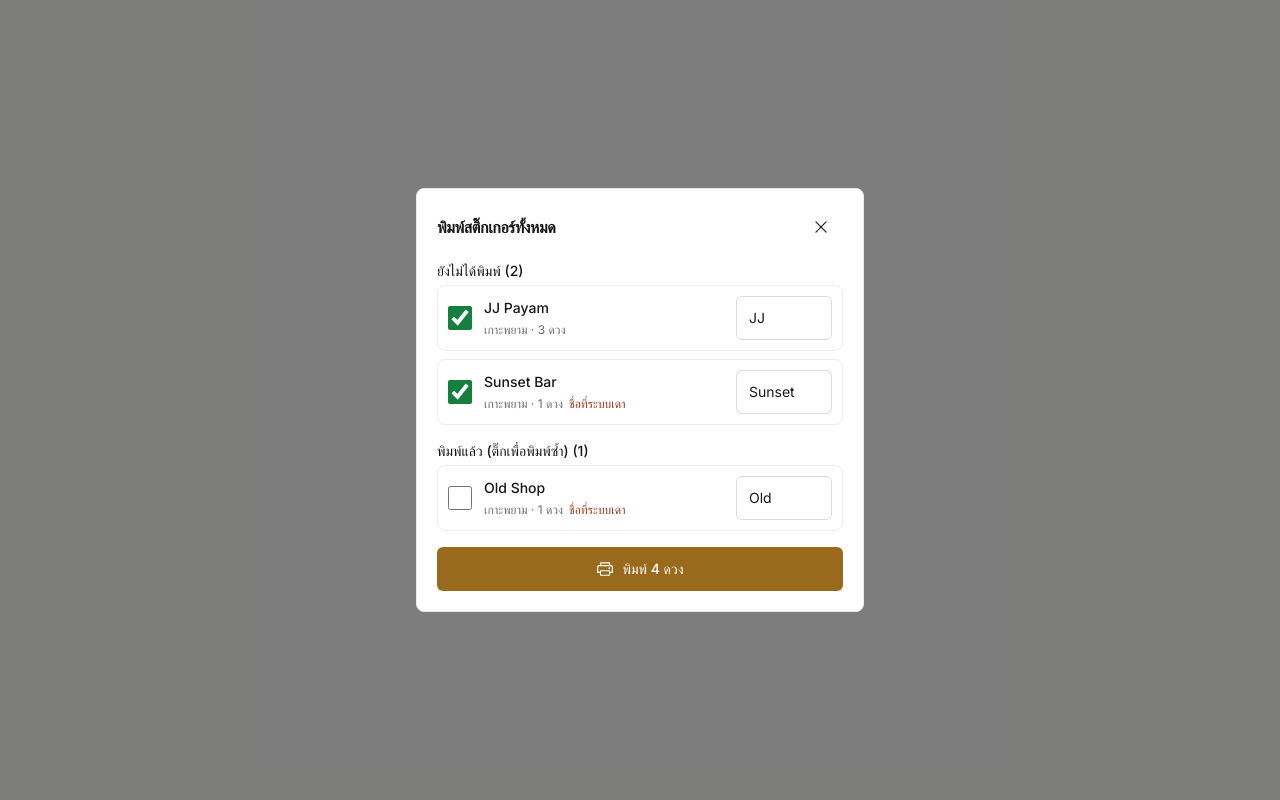
Scenario: ticking a printed customer adds a reprint
Check: the field showing "JJ" is shown, box [736,296,832,340]
Click the checkbox named "Old Shop".
click(460, 498)  # box [448,486,472,510]
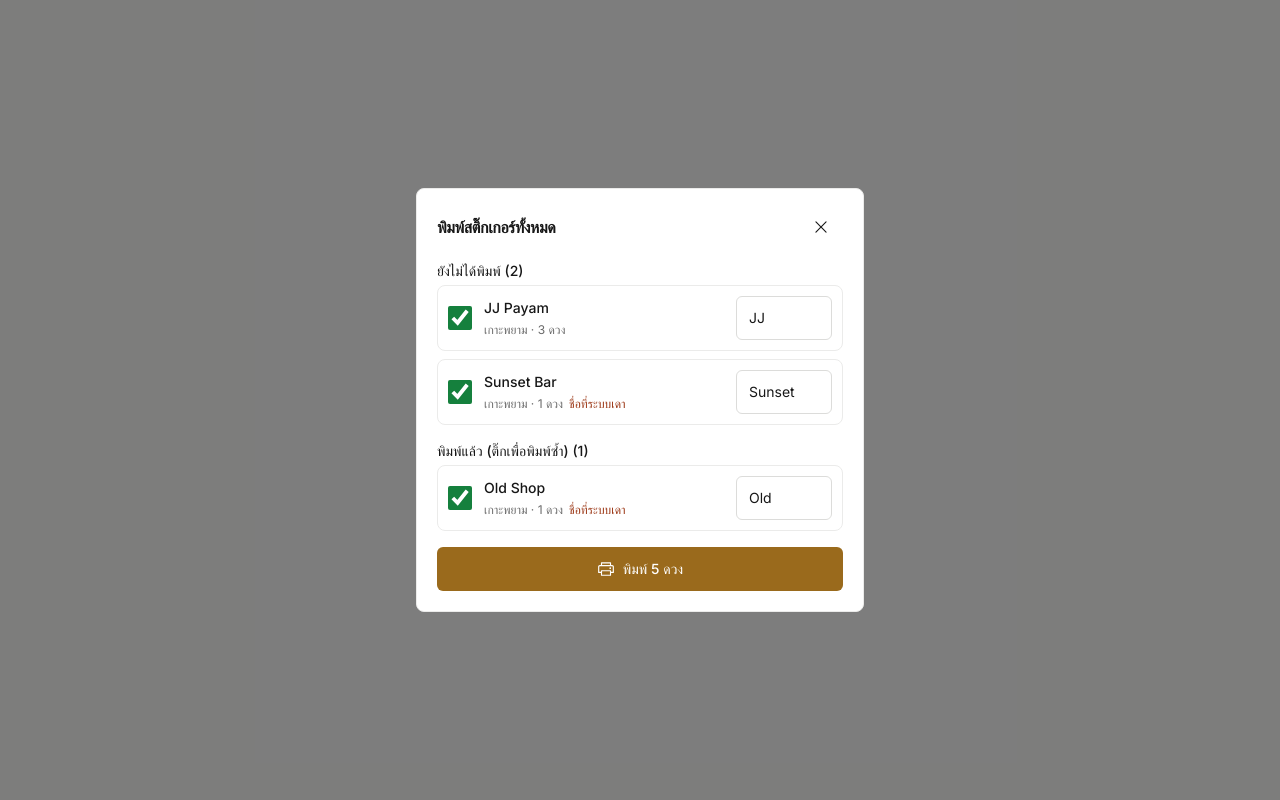
Check: the button "พิมพ์ 5 ดวง" is shown, box [437,547,843,591]
